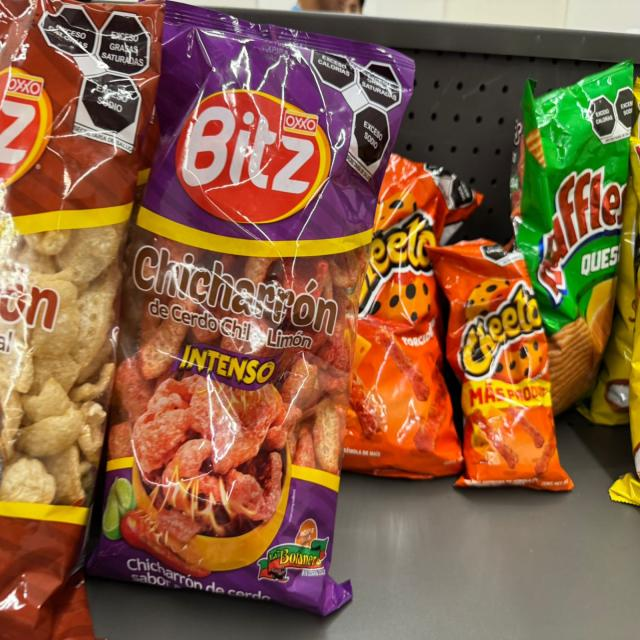CHEETOS TORCIDITOS 240GR: (425, 245, 573, 489)
Cheetos grandes: (340, 153, 485, 475)
Chicharron de Cerdo Natural Bitz 120 gr: (0, 0, 162, 639)
Papas Chips Barcel 170 gr bolsa con sal: (589, 81, 640, 423), (610, 277, 640, 508)
RUFFLES QUESO 185GR: (509, 53, 632, 413)
chicharrones de cerdo intenso: (88, 2, 416, 616)
